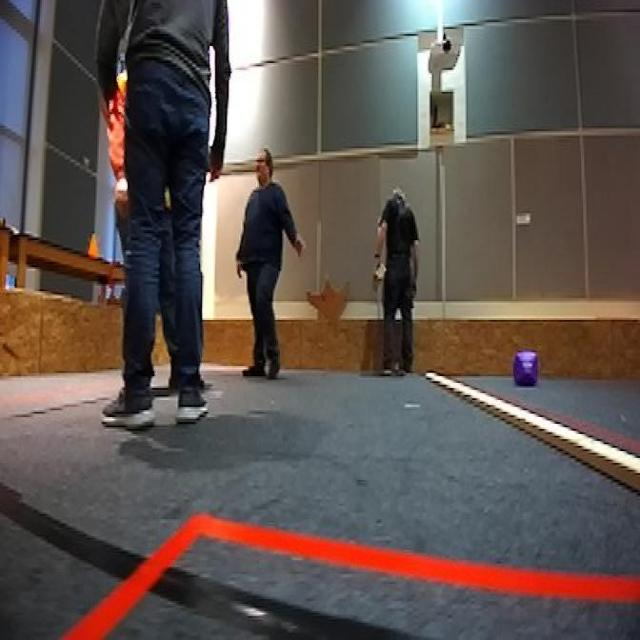frc_cube: (514, 357, 540, 390)
